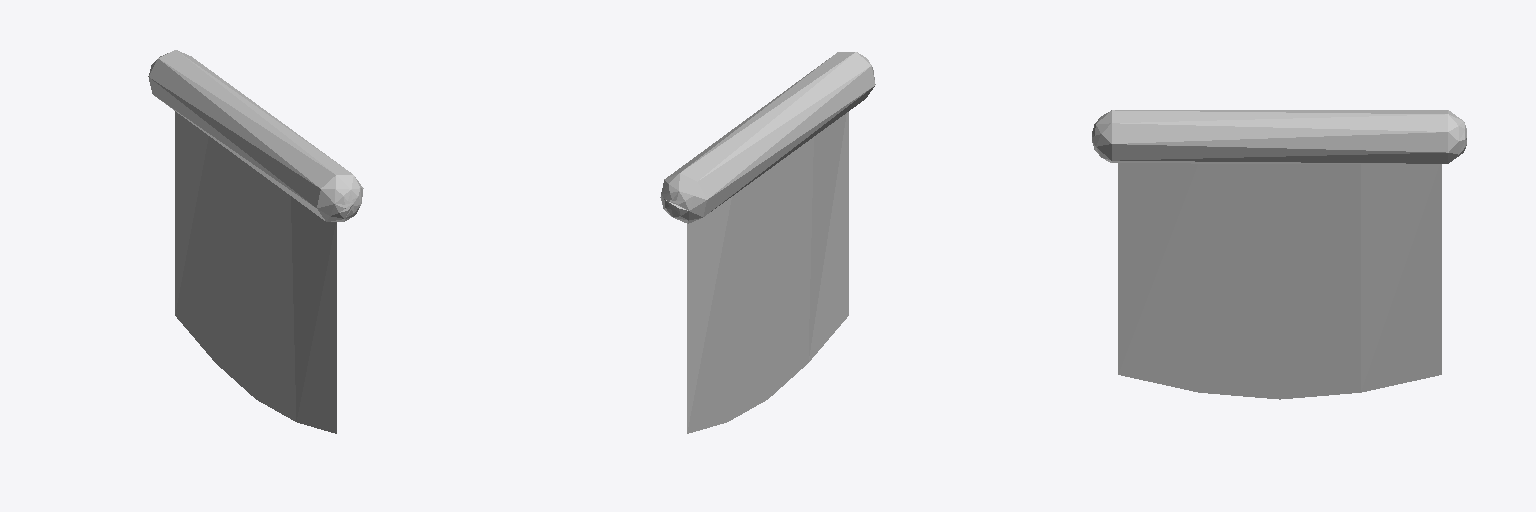
File: VineSegmentLo.obj
3 renders of one model, left to right at view 1: azimuth 30°, elevation 25°; view 2: azimuth 150°, elevation 25°; view 3: azimuth 270°, elevation 25°, orthographic.
Visible parts, largest first — view 1: Cube3_Cube3_auv, Cylinder1_default; view 2: Cube3_Cube3_auv, Cylinder1_default; view 3: Cube3_Cube3_auv, Cylinder1_default.
Part boxes in pixels (x1,y1,x2,y2): Cube3_Cube3_auv: (175, 111, 336, 433); Cylinder1_default: (148, 50, 363, 221); Cube3_Cube3_auv: (687, 112, 848, 433); Cylinder1_default: (660, 52, 875, 223); Cube3_Cube3_auv: (1118, 163, 1441, 399); Cylinder1_default: (1092, 110, 1466, 163).
Bounding box in the file's own units: 0.3352 × 1.97 × 2.33.